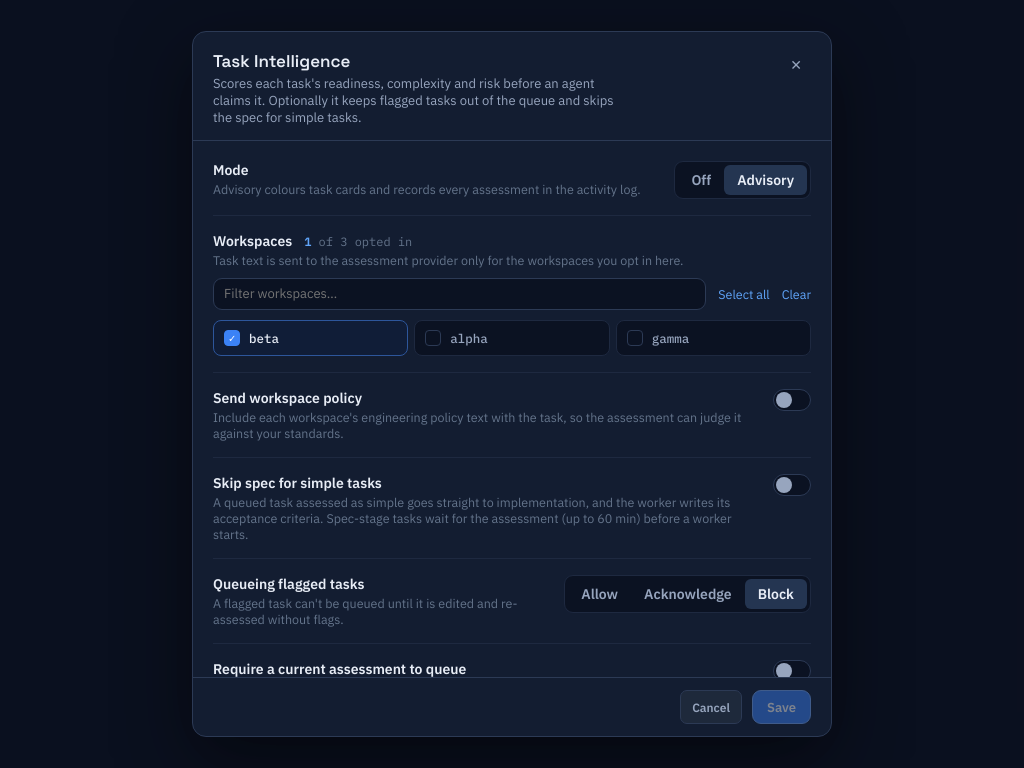
Test: IntakeSettingsPanel › filters the tiles, and Select all / Clear act on the whole list
The width and height of the screenshot is (1024, 768).
Expected: the dialog named "Task Intelligence settings" is shown, [192,31,832,737]
Type "gam" into the search field labelled "Filter workspaces" at [460, 294], box [213,278,706,310]
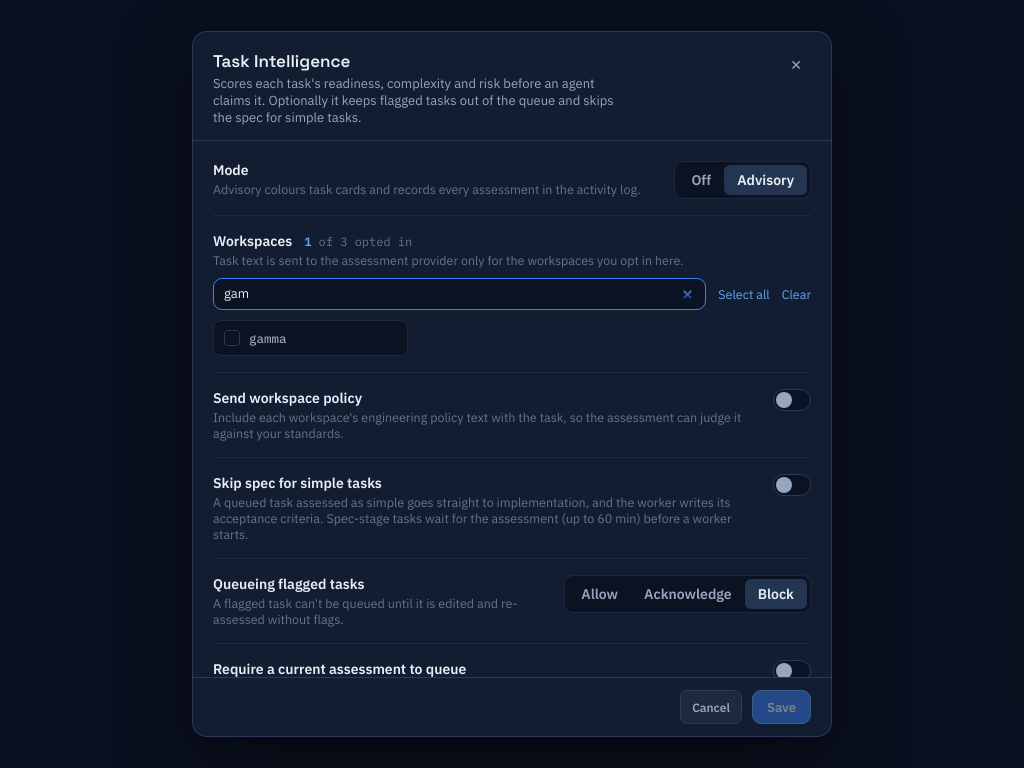
Clear the search field named "Filter workspaces" at [460, 294], box [213,278,706,310]
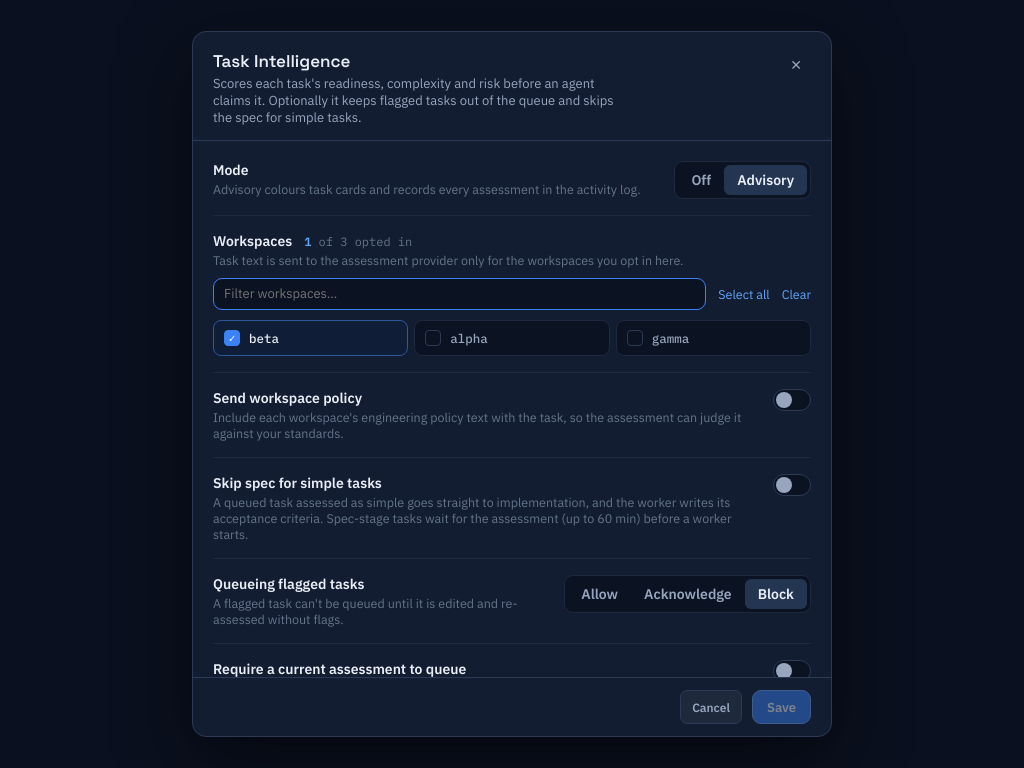
Click the button "Select all" at [744, 294], box [718,286,770,302]
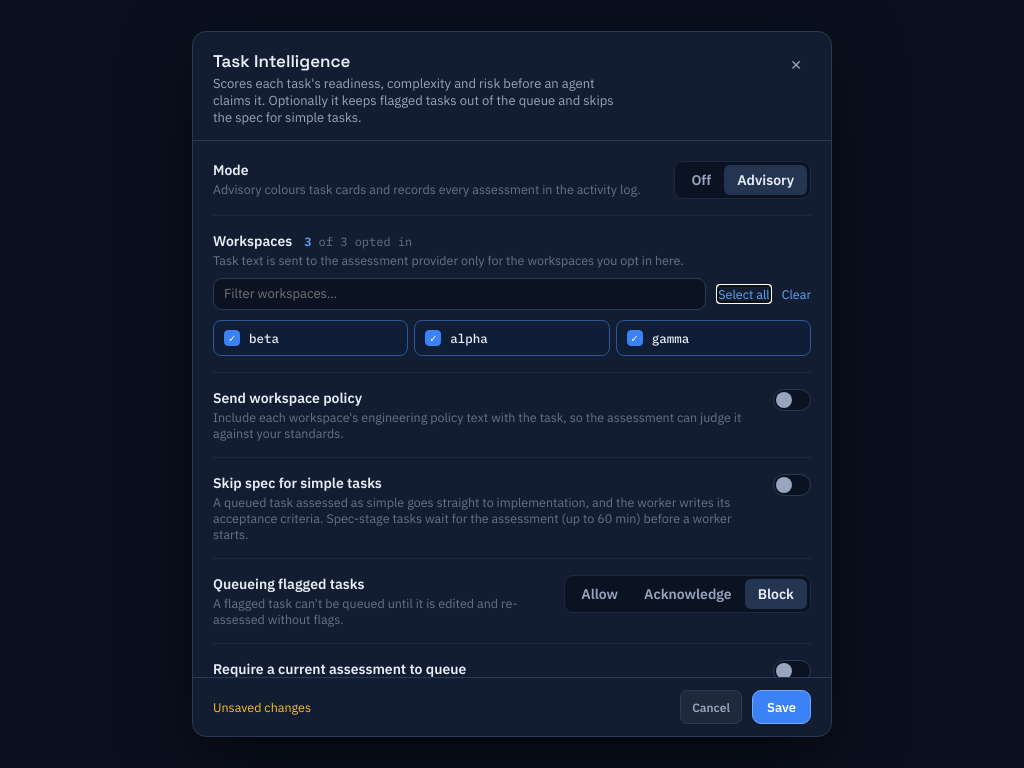
Expected: the text "3 of 3 opted in" is shown, [304,234,412,249]
Click the button "Clear" at [796, 294], box [782,286,811,302]
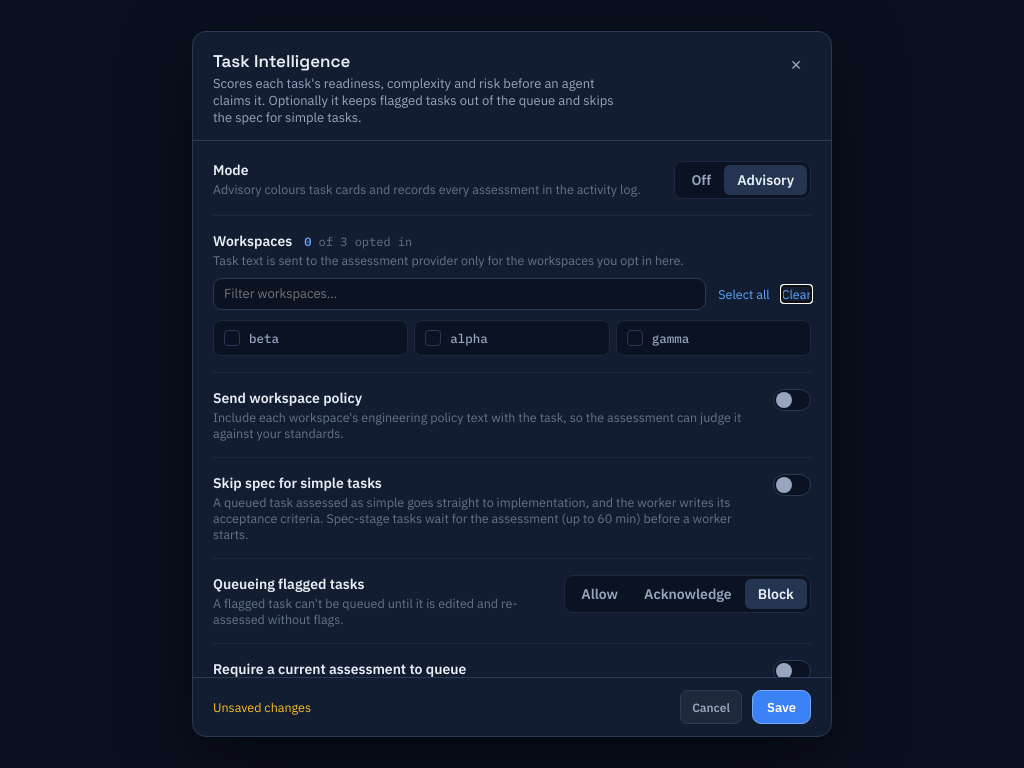
Expected: the text "0 of 3 opted in" is shown, [304,234,412,249]
